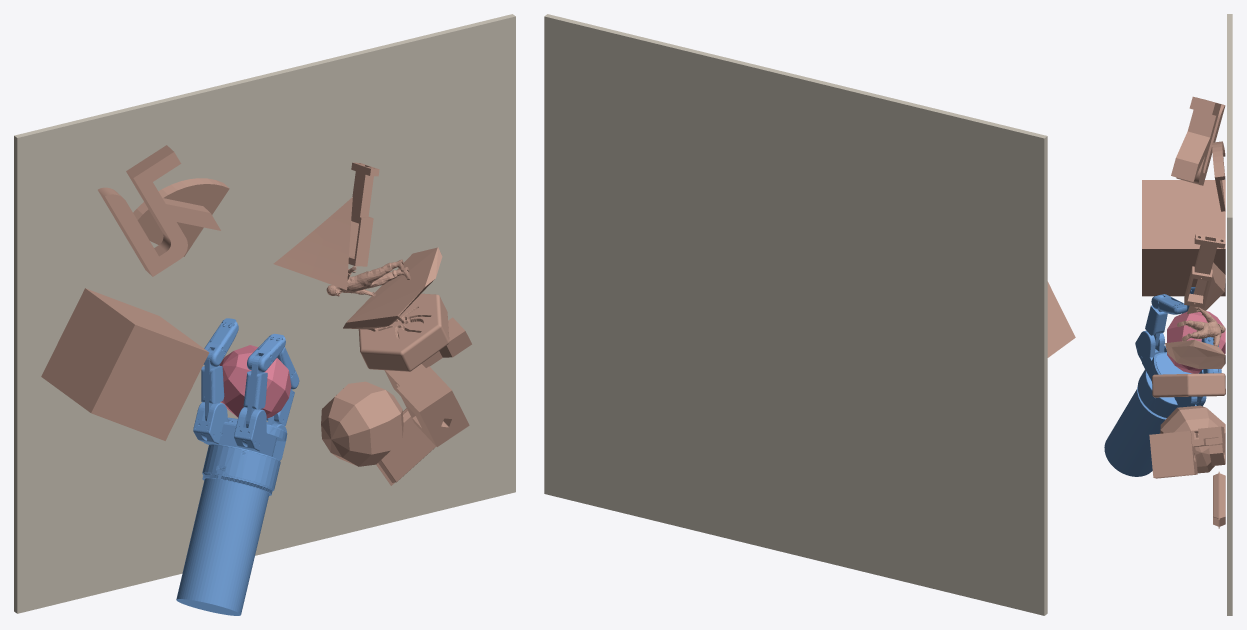
3 renders of one model, left to right at view 1: azimuth 30°, elevation 25°; view 2: azimuth 150°, elevation 25°; view 3: azimuth 270°, elevation 25°, orthographic. The views are drawn at different scales.
Visible parts, largest first — view 1: environment, hand, obstacle_005, obstacle_000, obstacle_006, obstacle_004, obstacle_007, obstacle_001, obstacle_003, world, obstacle_010, obstacle_009 (+2 smaller); view 2: environment, obstacle_005; view 3: obstacle_005, hand, environment, obstacle_007, obstacle_000, obstacle_004, obstacle_006, obstacle_009, obstacle_003, world, obstacle_008, obstacle_001 (+2 smaller).
Boxes of the visible parts, box(x1,y1,x2,y2) form: environment: box(14, 14, 515, 613); hand: box(176, 318, 299, 615); obstacle_005: box(41, 288, 209, 440); obstacle_000: box(98, 145, 220, 276); obstacle_006: box(321, 381, 403, 466); obstacle_004: box(358, 293, 449, 371); obstacle_007: box(384, 317, 471, 446); obstacle_001: box(273, 197, 352, 290); obstacle_003: box(343, 247, 442, 329); world: box(219, 345, 291, 418); obstacle_010: box(133, 178, 229, 256); obstacle_009: box(348, 162, 379, 266); environment: box(544, 14, 1047, 615); obstacle_005: box(1047, 281, 1075, 357); obstacle_005: box(1142, 180, 1225, 296); hand: box(1104, 287, 1221, 476); environment: box(1227, 14, 1232, 615); obstacle_007: box(1149, 426, 1225, 478); obstacle_000: box(1171, 96, 1225, 185); obstacle_004: box(1152, 373, 1225, 397); obstacle_006: box(1160, 405, 1225, 473); obstacle_009: box(1184, 234, 1225, 307); obstacle_003: box(1165, 339, 1225, 368); world: box(1167, 311, 1225, 373); obstacle_008: box(1177, 307, 1225, 346); obstacle_001: box(1187, 262, 1225, 314).
Bounding box in the file's own units: 0.6919 × 0.6326 × 0.1838.
